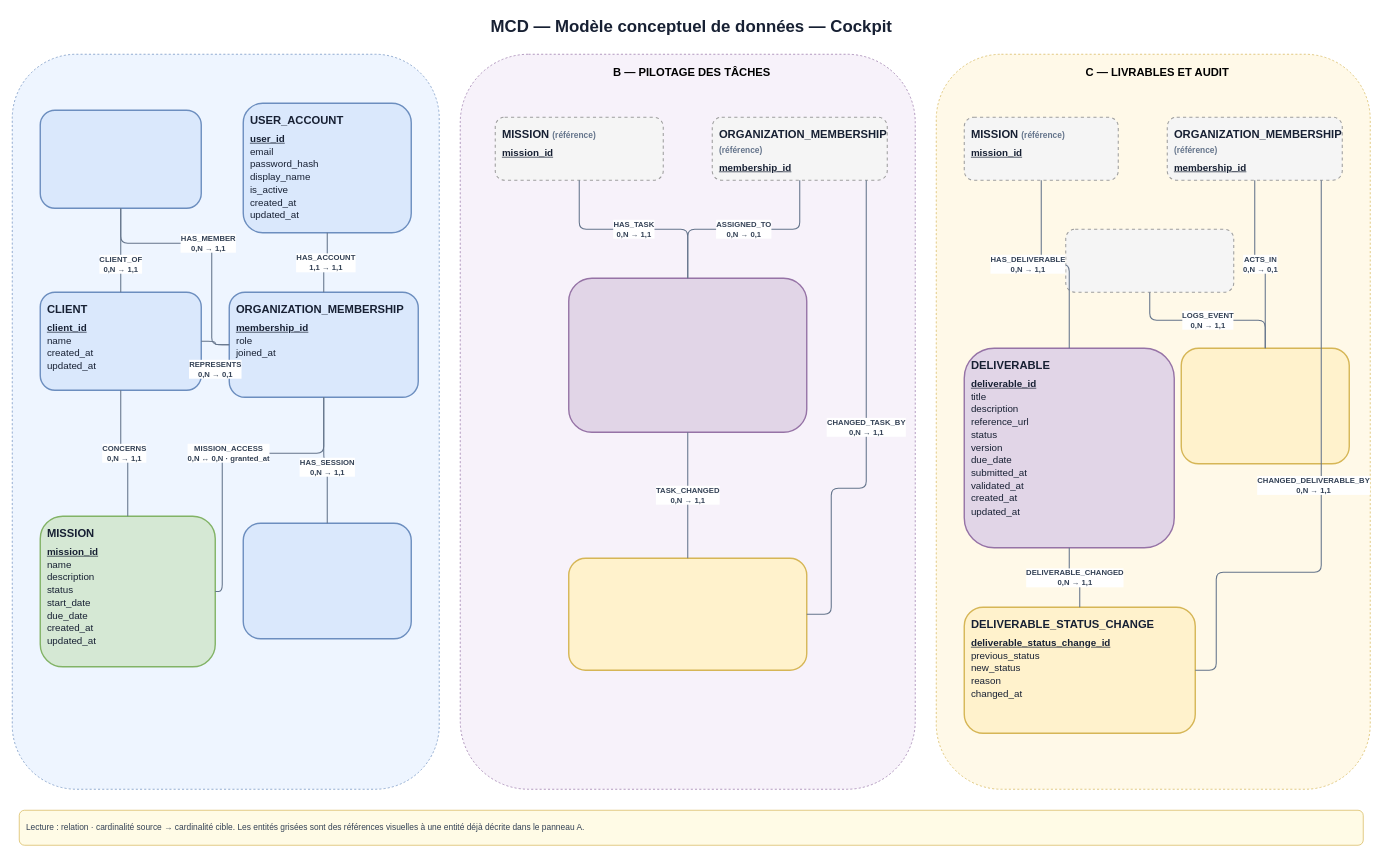
Some shapes in this 1383 by 858 pixel diagram are drawn without their labels. Each missing label, with the box of its shape:
A — ORGANISATION ET ACCÈS: (12, 54, 439, 789)
AUDIT_EVENT audit_event_id event_type resource_type resource_id occurred_at: (1180, 347, 1350, 464)
ORGANIZATION (référence) organization_id: (1065, 228, 1234, 292)
ORGANIZATION organization_id name created_at updated_at: (39, 109, 202, 209)
SESSION session_id token_hash expires_at last_seen_at created_at: (242, 522, 412, 639)
TASK task_id title description status position due_date created_at updated_at: (568, 277, 807, 433)
TASK_STATUS_CHANGE task_status_change_id previous_status new_status changed_at: (568, 557, 807, 671)
